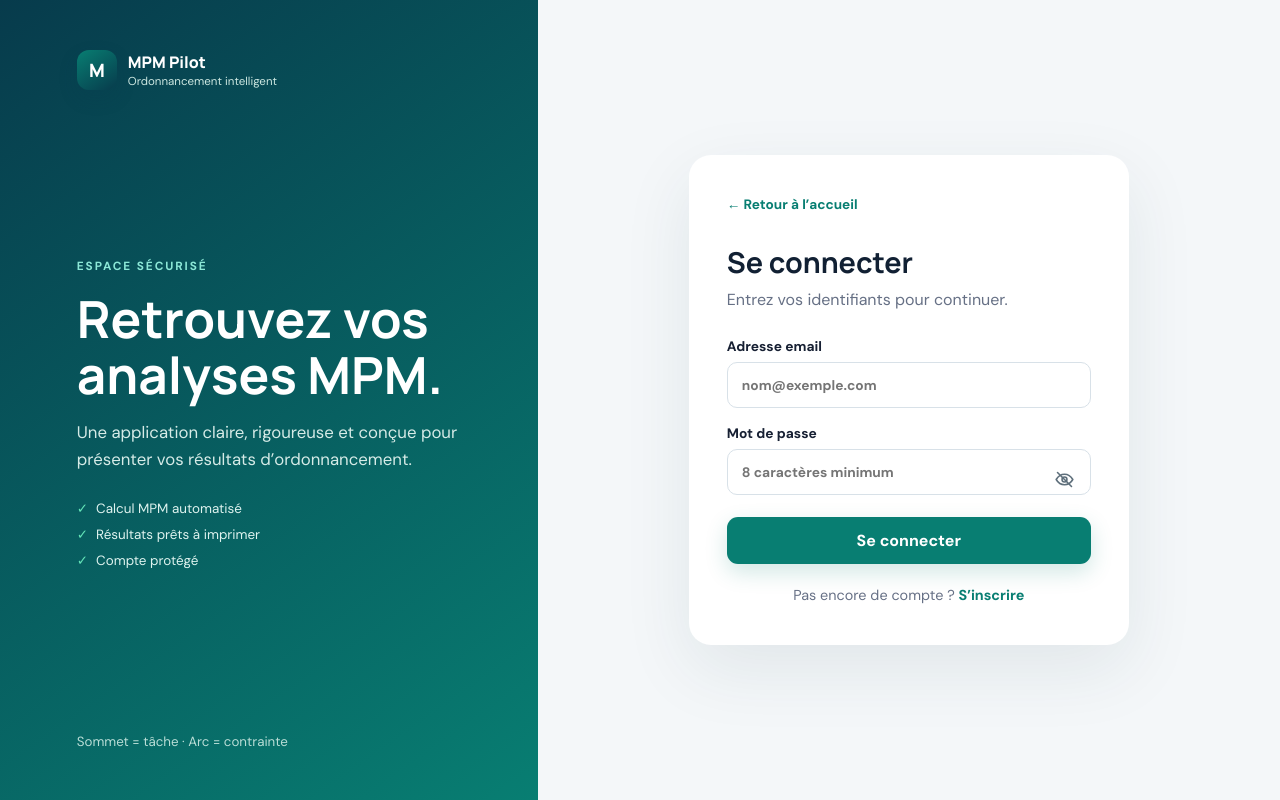
Test case: Application MPM › présente le formulaire de connexion
The width and height of the screenshot is (1280, 800).
Expected: the heading "Se connecter" is shown, x1=727 y1=242 x2=913 y2=282
Expected: the button "Se connecter" is enabled, x1=727 y1=517 x2=1091 y2=564
Step 1. Click the button named "Afficher le mot de passe" → coordinates (1065, 480), box x1=1044 y1=459 x2=1086 y2=501
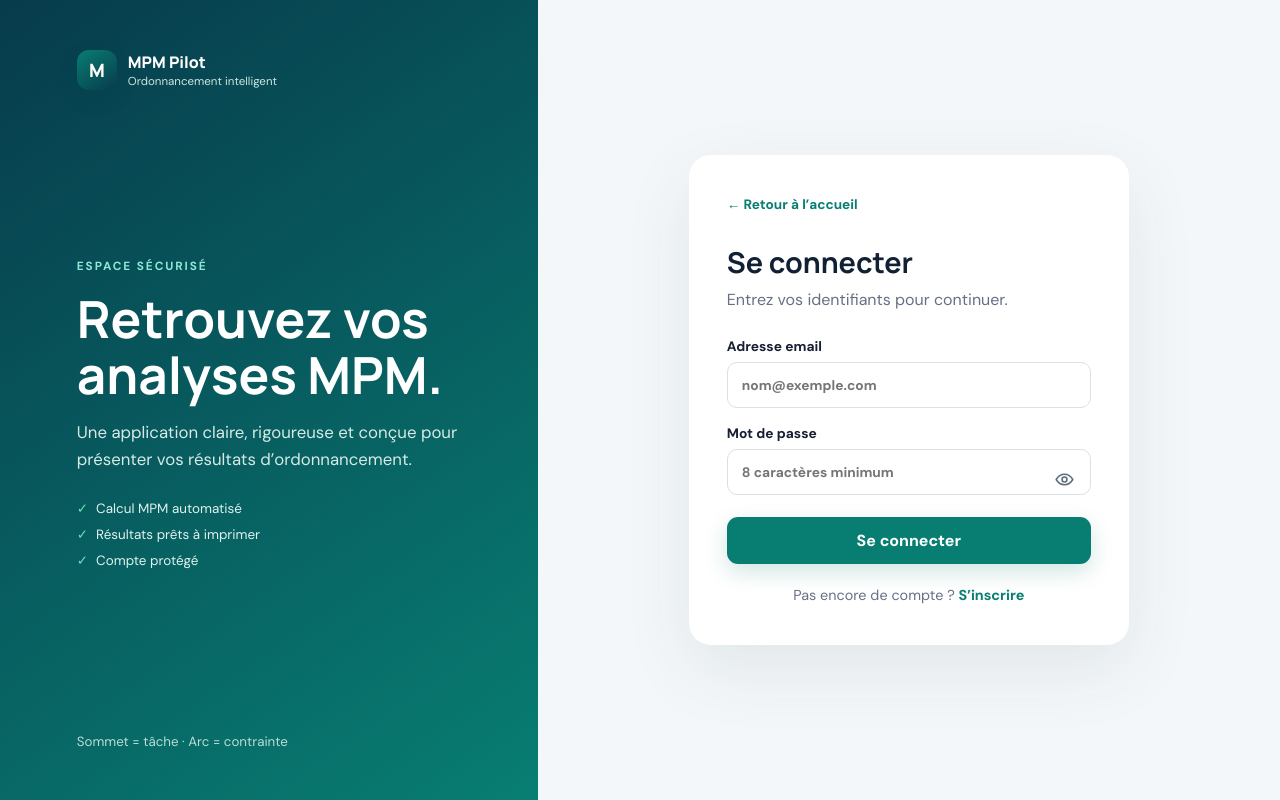
Expected: the button named "Masquer le mot de passe" is shown, x1=1044 y1=459 x2=1086 y2=501
